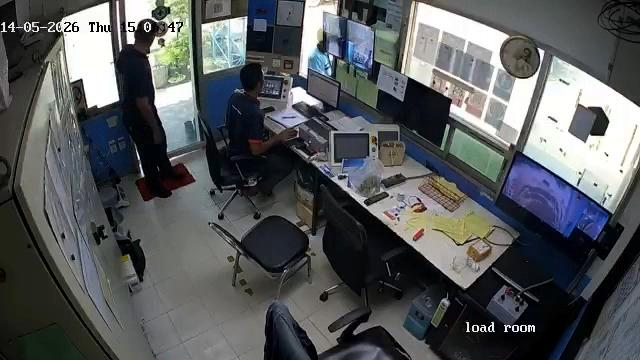Head: (131, 17, 161, 44), (238, 63, 266, 91)
People: (116, 18, 193, 199), (226, 61, 291, 196)
Phone: (260, 106, 276, 114)
